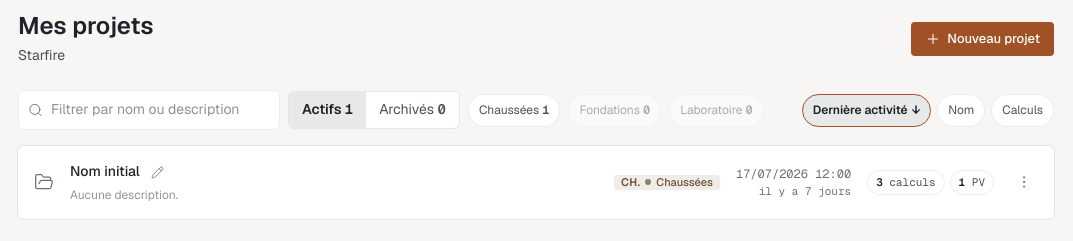
it: Liste des projets — renommage en ligne › #4 GIVEN un champ ouvert — WHEN Échap — THEN annulation sans écriture
Step 1. Click the button named "Renommer le projet Nom initial" → (158,172), box [146,160,170,184]
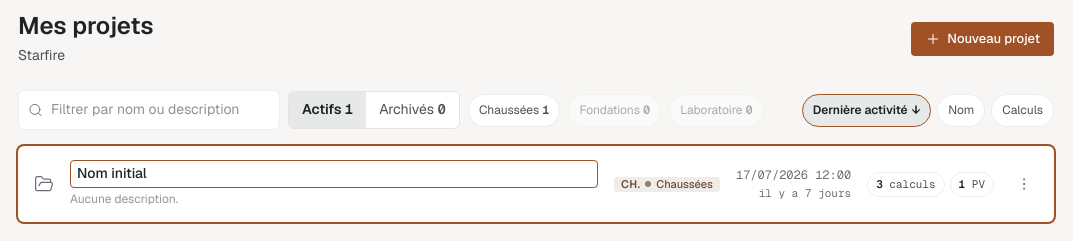
Step 2. Press Escape in the field named "Renommer le projet Nom initial", box [70,160,598,188]
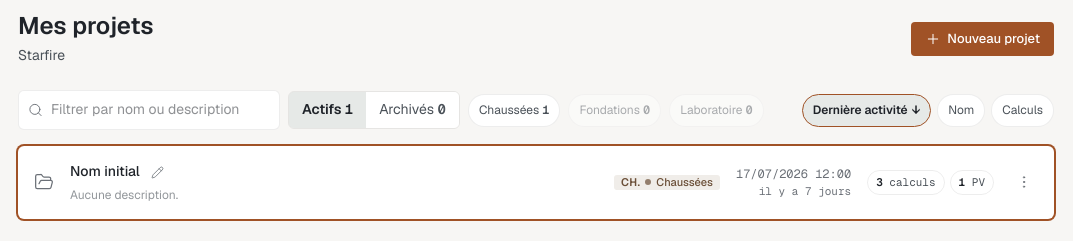
Result: the text "Nom initial" is shown at [70,160,170,184]
